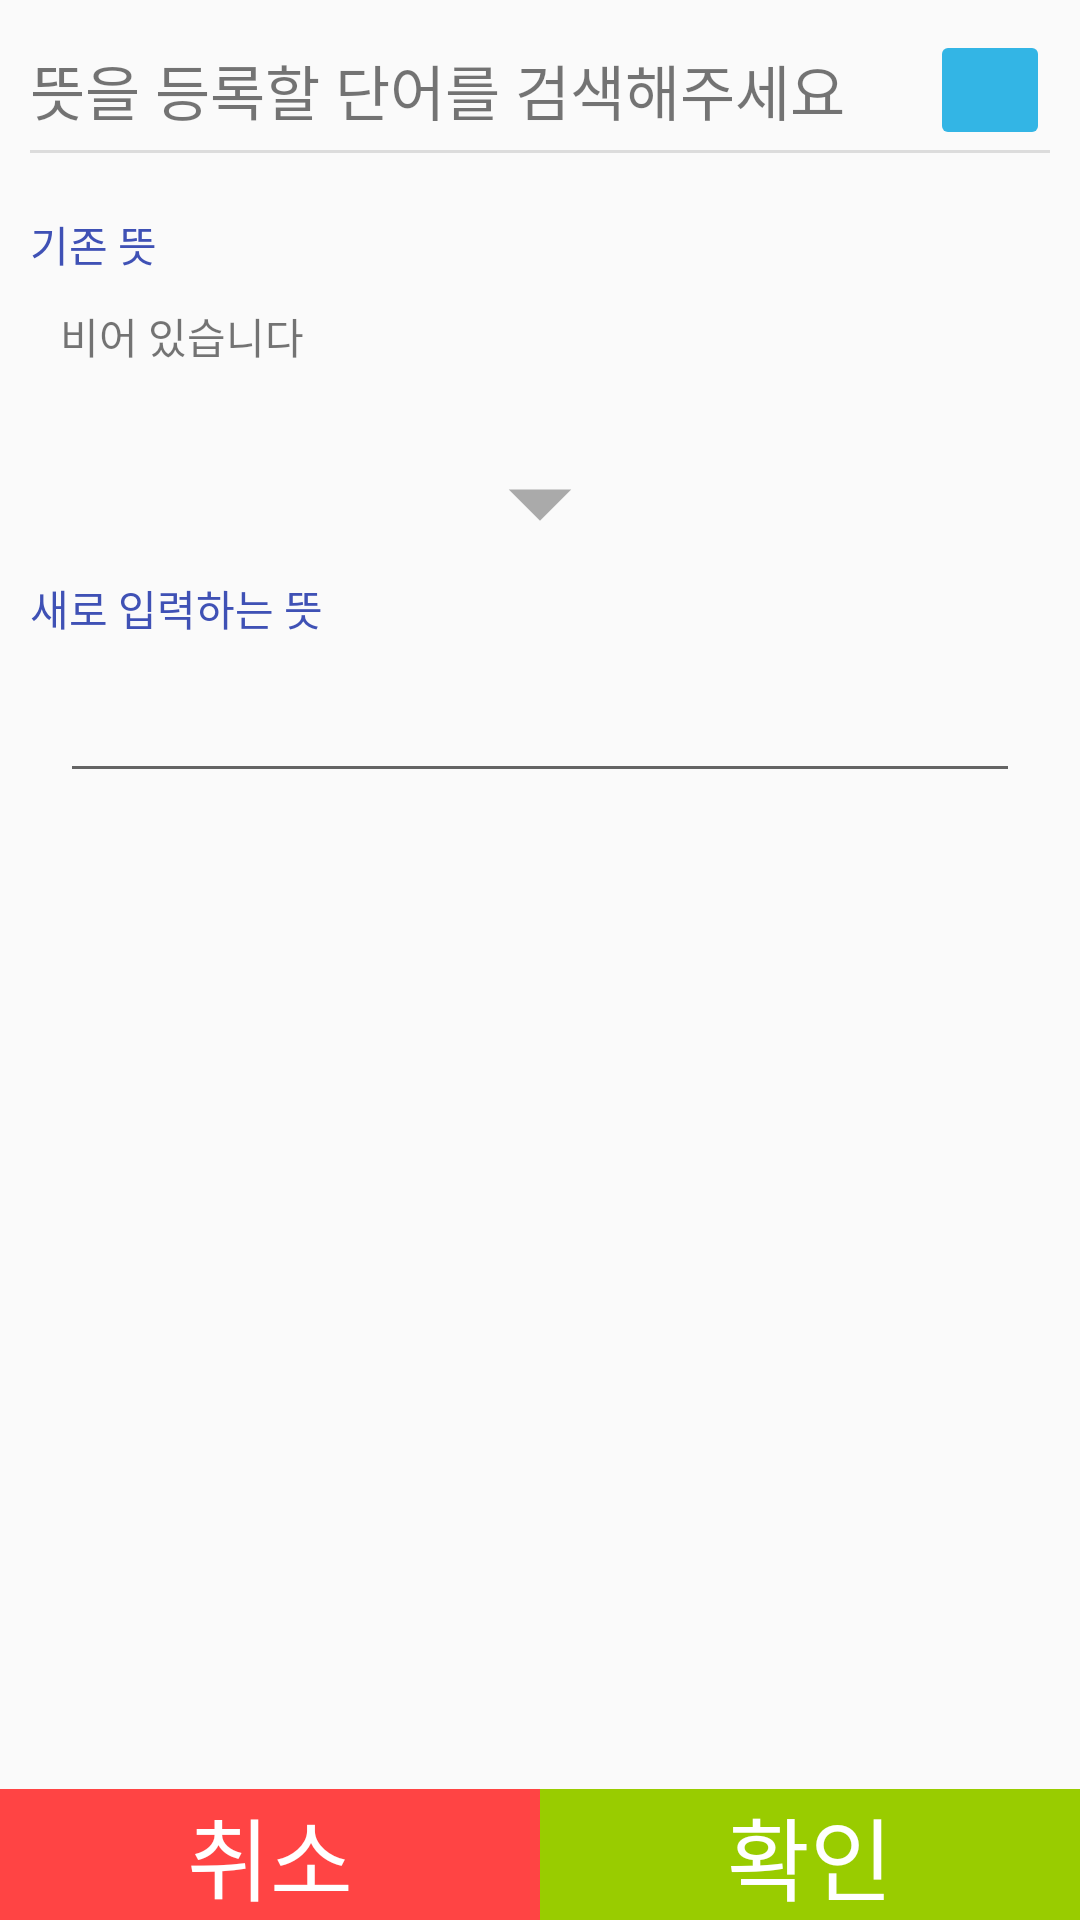

Point at icon controls on the screen. Image size 1080px x 1920px, points as point (x, y).
arrow drop down: point (540, 504)
